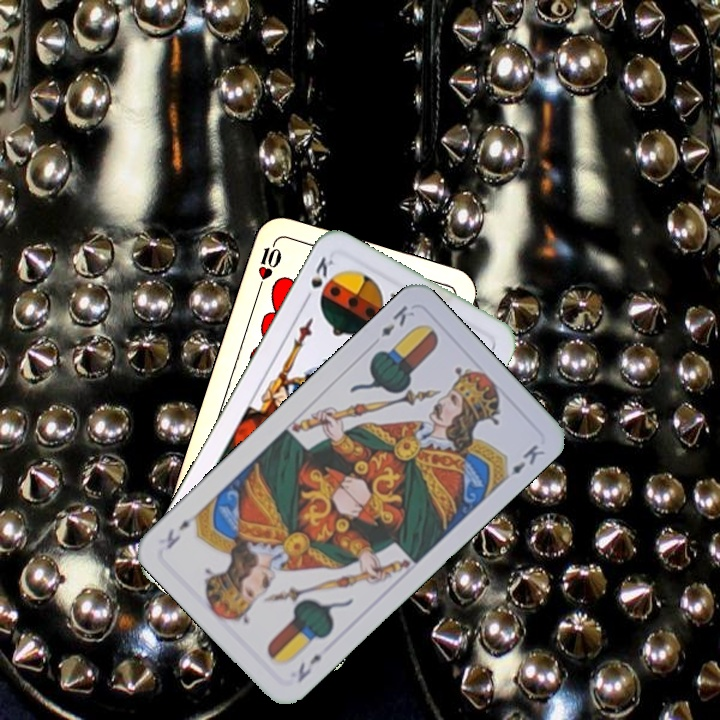EK: (376, 301, 418, 340), (293, 650, 325, 686)
H10: (253, 235, 284, 293)
SK: (299, 252, 337, 306)
